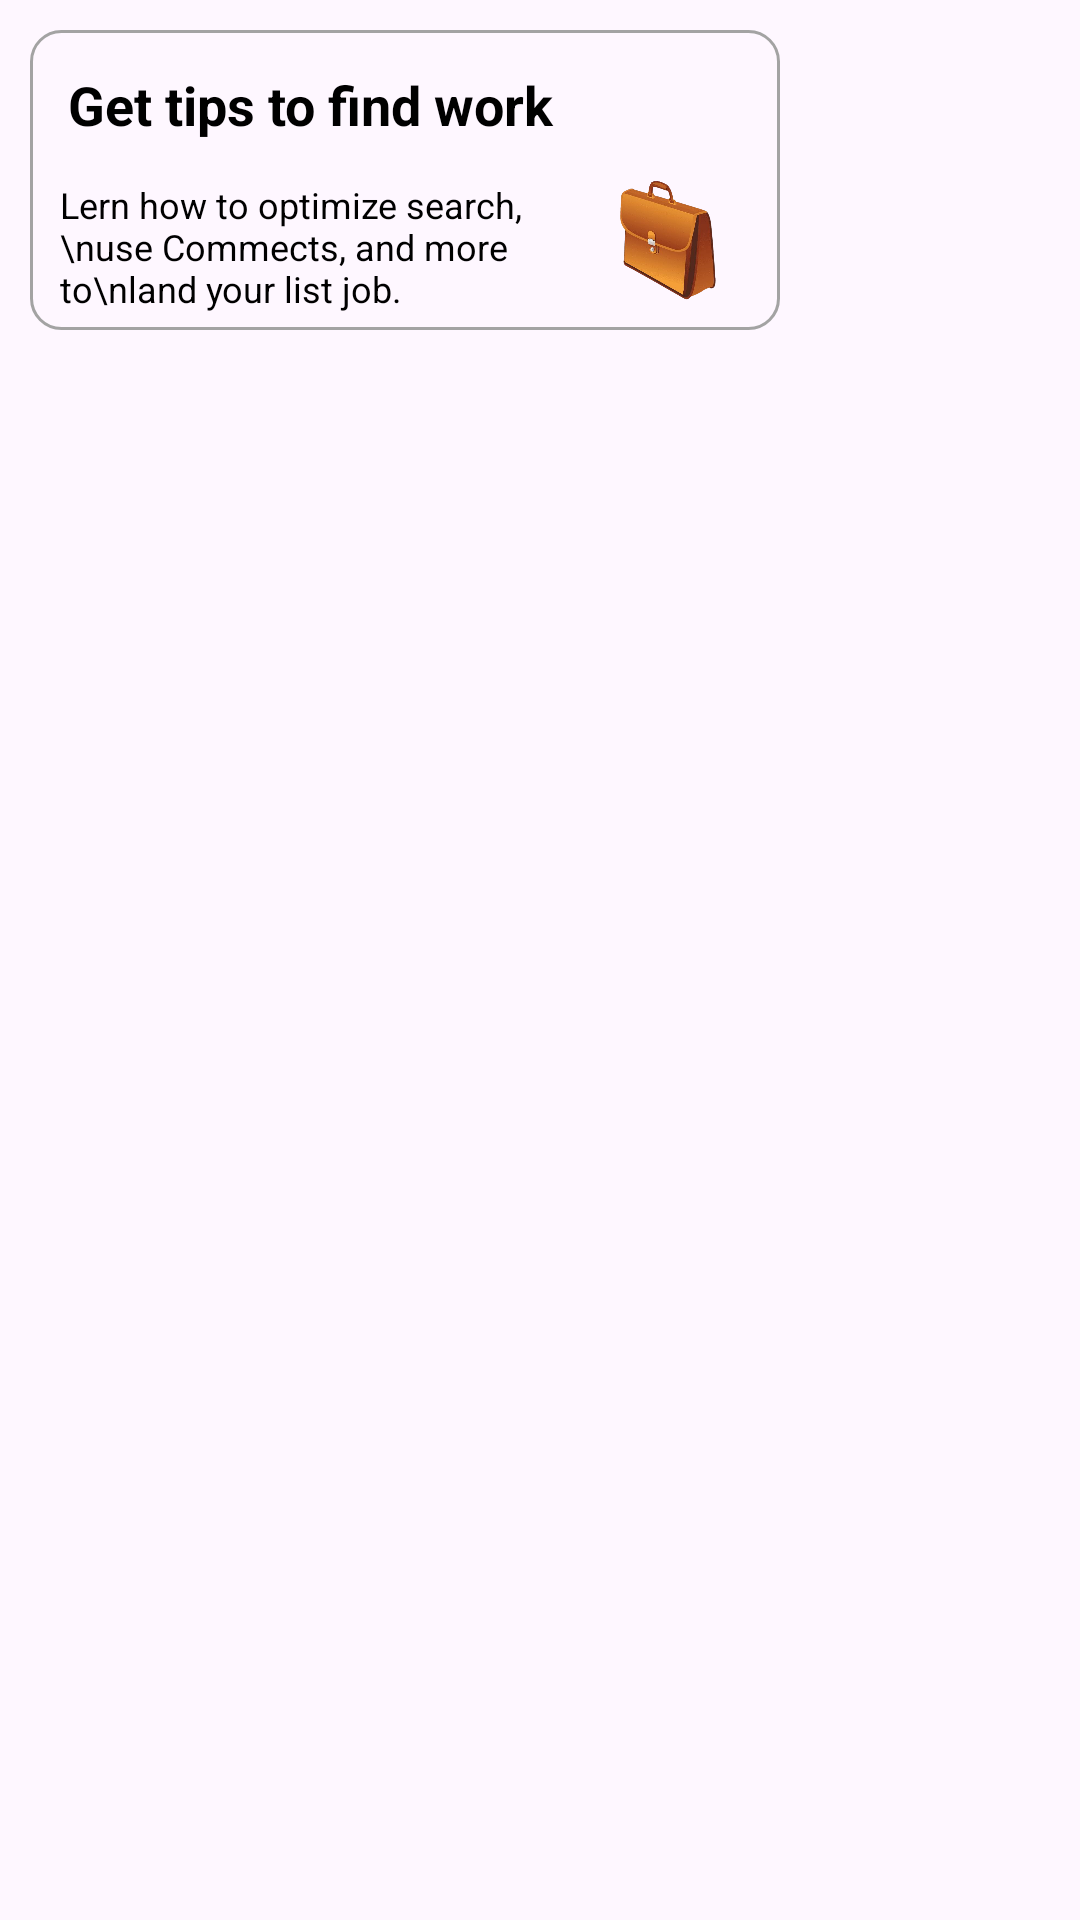

Icon bounding boxes for this 1080 × 1920 phone screenshot, format (x1, y1, x2, y2):
bag: (620, 181, 716, 300)
